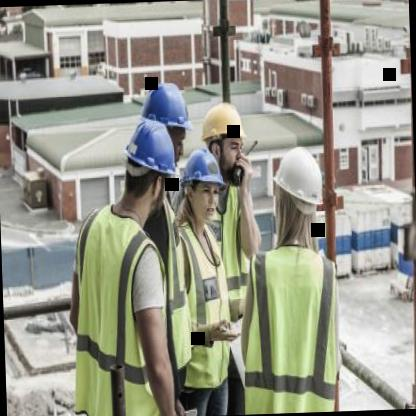helmet: (122, 91, 186, 212), (270, 142, 330, 243), (174, 142, 229, 229), (197, 99, 252, 180), (142, 82, 195, 154)
